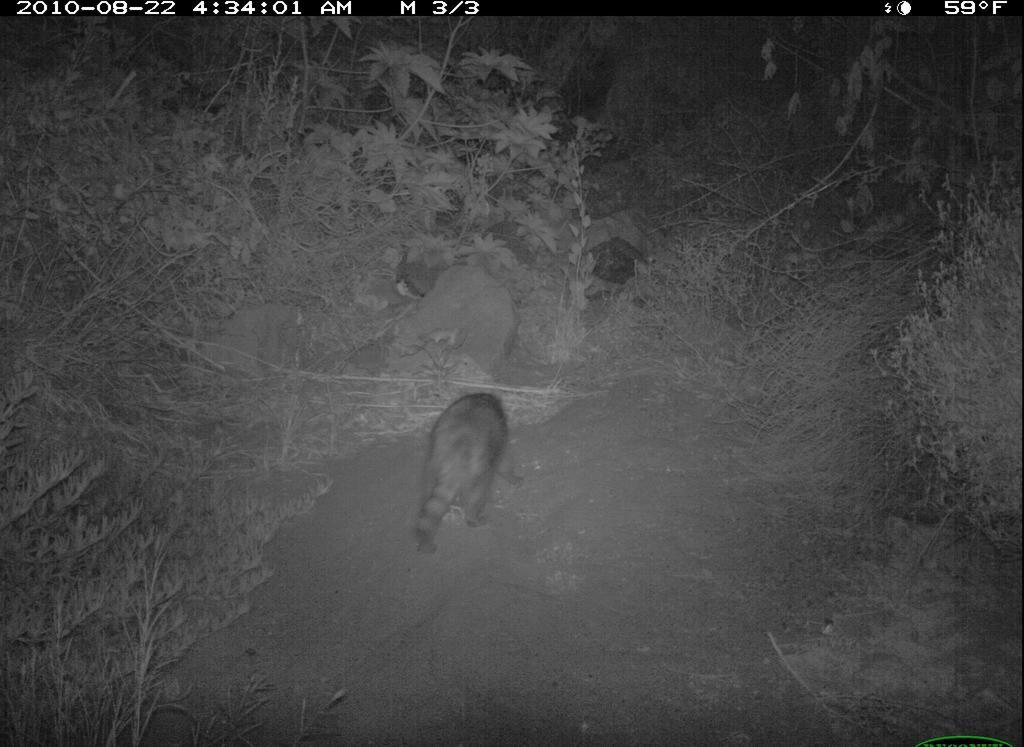raccoon: (402, 388, 523, 564)
